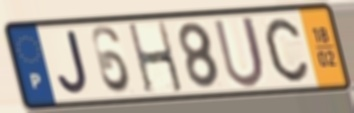6: (91, 24, 133, 97)
8: (176, 21, 222, 91)
C: (262, 16, 311, 84)
H: (125, 20, 186, 97)
J: (56, 28, 90, 97)
U: (211, 13, 267, 90)
